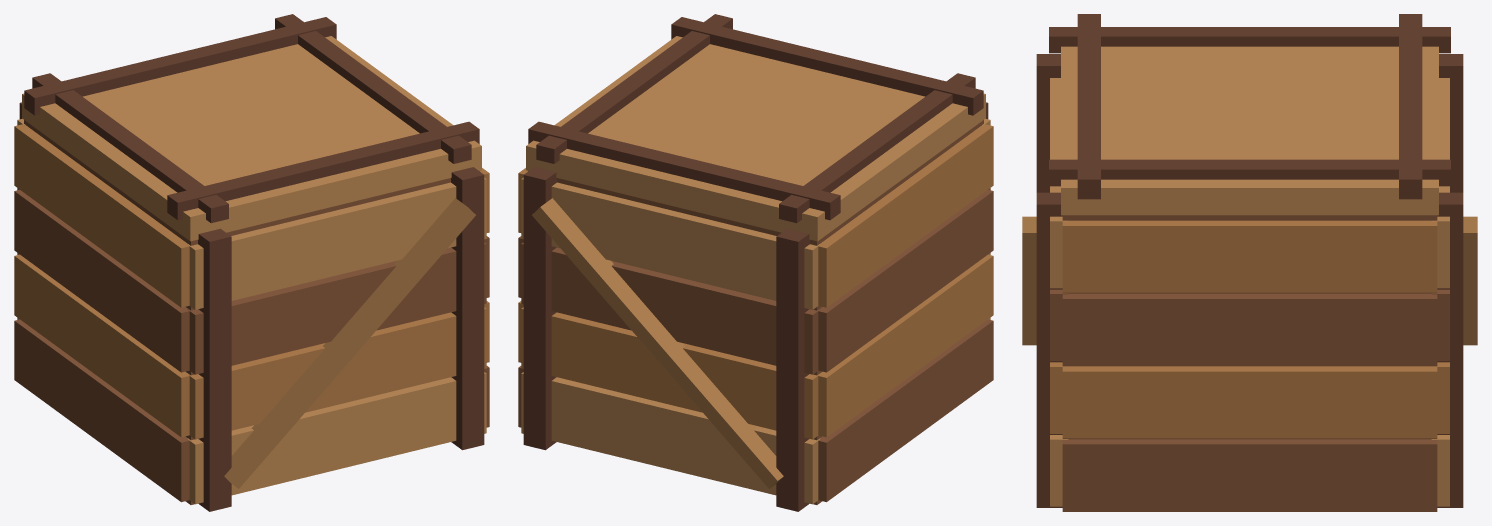
The model's file is Crate_01.obj.
3 views of the same model, side by side, from view 1: azimuth 30°, elevation 25°; view 2: azimuth 150°, elevation 25°; view 3: azimuth 270°, elevation 25° (orthographic). The views are drawn at different scales.
Visible parts, largest first — view 1: Crate_01; view 2: Crate_01; view 3: Crate_01.
Part boxes in pixels (box(x1,y1,x2,y2)): Crate_01: box(14, 14, 489, 511); Crate_01: box(518, 14, 993, 511); Crate_01: box(1022, 14, 1477, 511).
Size of the model in its own units: 1.2 by 1.11 by 1.36.
Materials: 1 (1 with a texture image).
